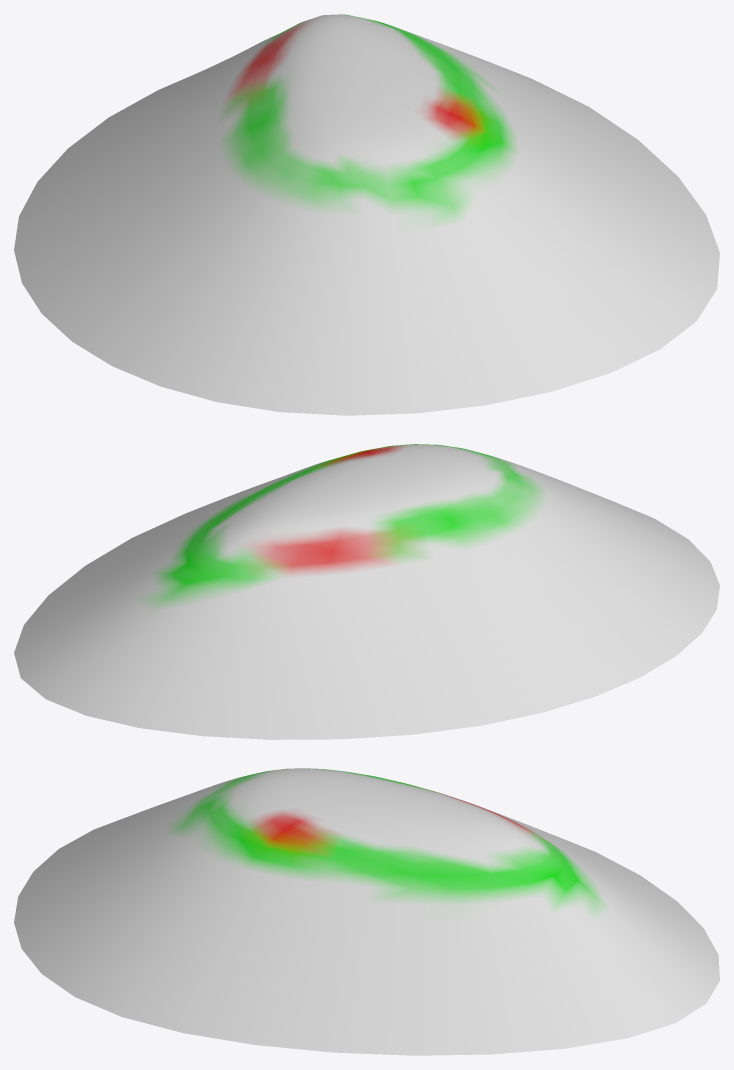
The model's file is Terrain_03.fbx.
3 views of the same model, one above another, from view 1: azimuth 30°, elevation 25°; view 2: azimuth 150°, elevation 25°; view 3: azimuth 270°, elevation 25° (orthographic). The views are drawn at different scales.
Visible parts, largest first — view 1: Terrain_03; view 2: Terrain_03; view 3: Terrain_03.
Part boxes in pixels (x1=…): Terrain_03: x1=14, y1=14, x2=719, y2=415; Terrain_03: x1=14, y1=444, x2=719, y2=739; Terrain_03: x1=14, y1=768, x2=719, y2=1055.
Size of the model in its own units: 25.39 by 5.92 by 29.06.
